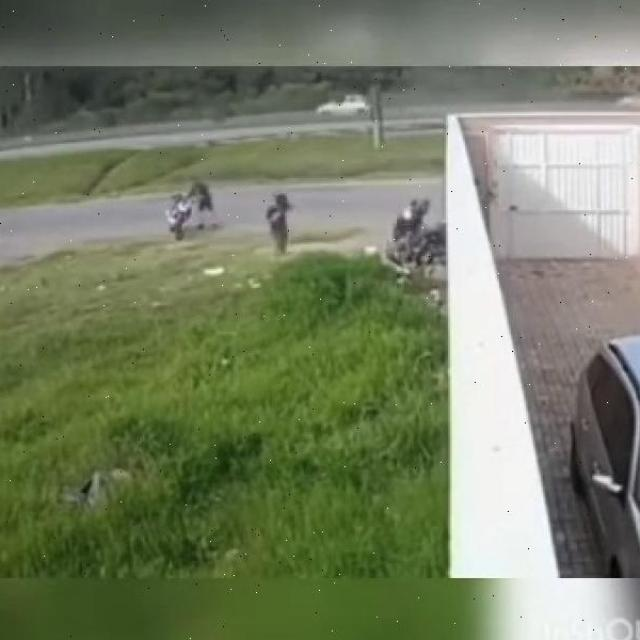accident: (383, 212, 453, 277)
